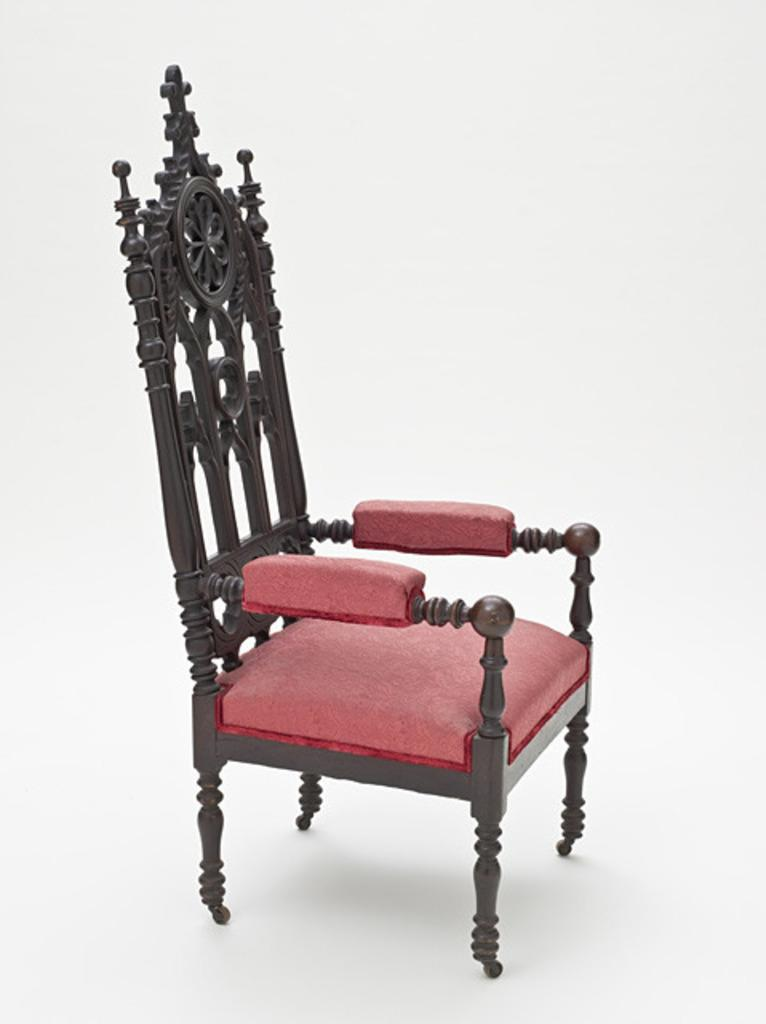Chair: (166, 112, 619, 990)
